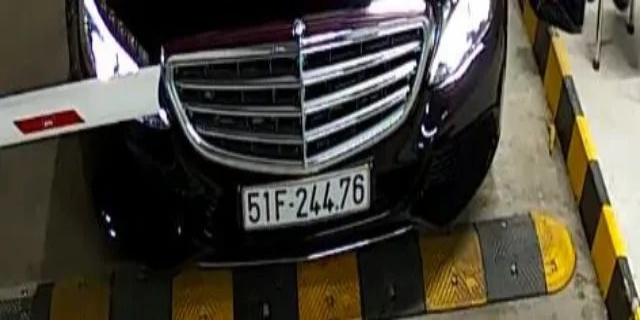bien_so: (245, 172, 368, 223)
